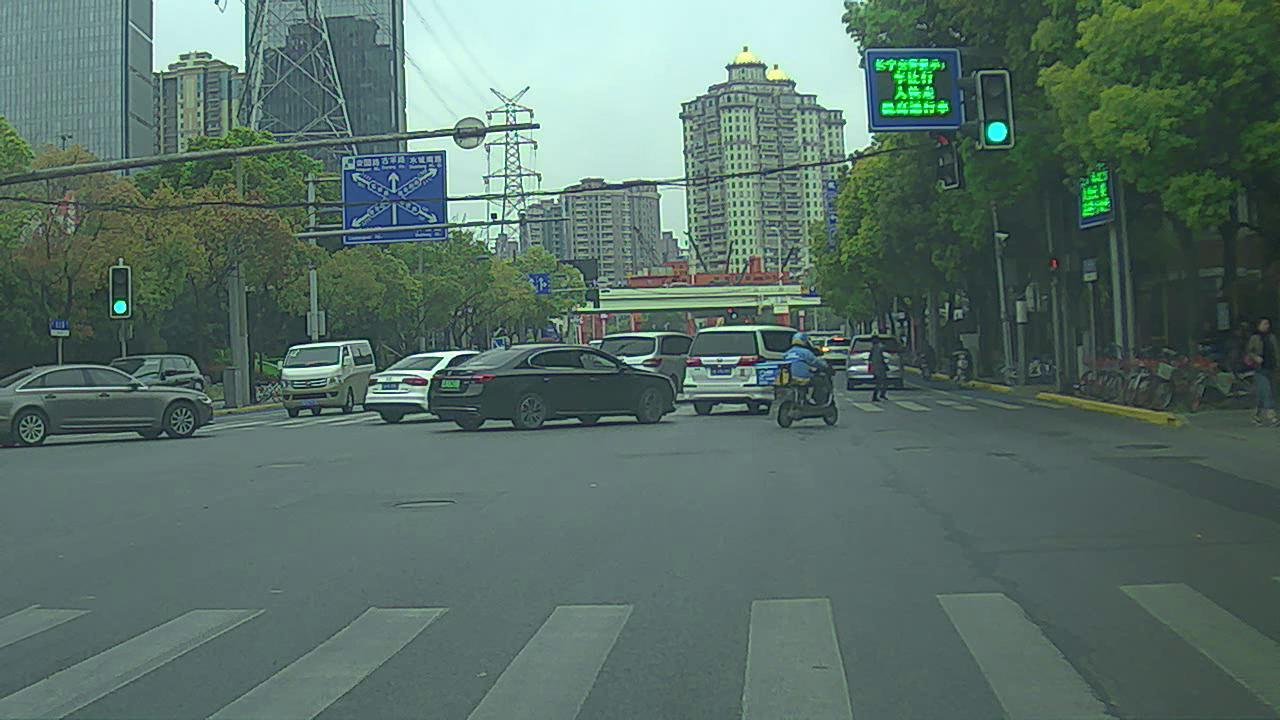traffic_light: (978, 68, 1014, 150), (110, 267, 134, 325)
